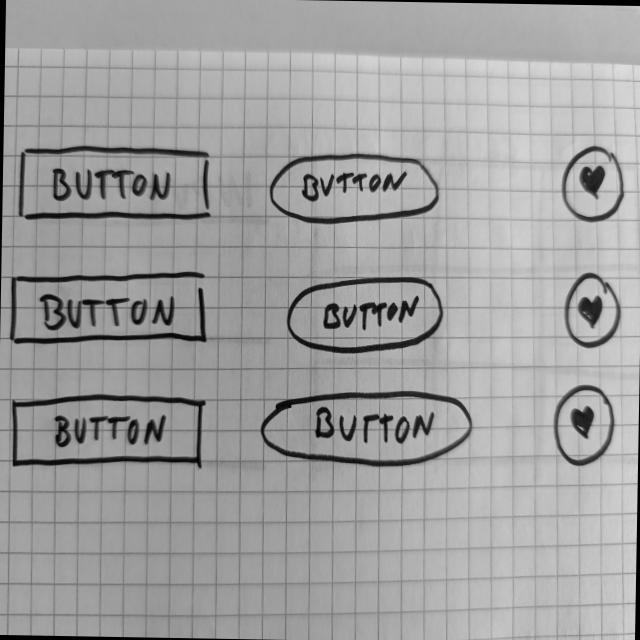button: (258, 387, 477, 471), (17, 144, 219, 230), (10, 268, 211, 351), (10, 392, 208, 473), (268, 150, 443, 231), (285, 272, 449, 357)
icon-button: (551, 383, 616, 470), (560, 145, 629, 226), (561, 270, 624, 352)
